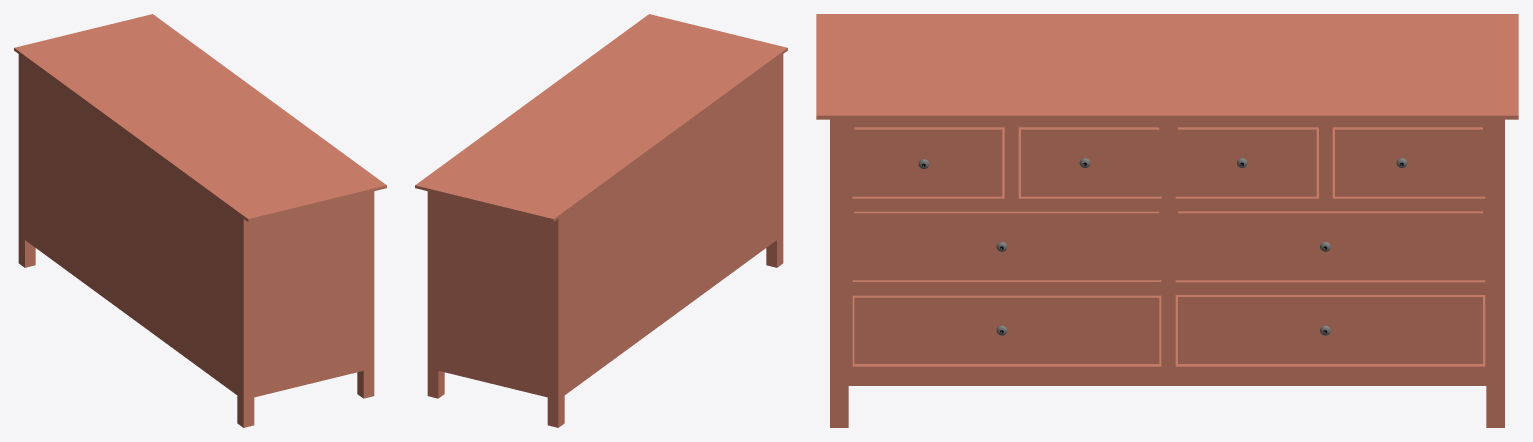
The picture shows the model from 3 angles, left to right: view 1: azimuth 30°, elevation 25°; view 2: azimuth 150°, elevation 25°; view 3: azimuth 270°, elevation 25°; orthographic projection. The views are drawn at different scales.
Visible parts, largest first — view 1: Group4, Componen01; view 2: Group4, Componen01, Group3; view 3: Group3, Group4, Componen01.
Boxes of the visible parts, box(x1,y1,x2,y2) form: Group4: box(14, 14, 386, 397); Componen01: box(18, 233, 374, 427); Group4: box(415, 14, 787, 397); Componen01: box(427, 233, 783, 427); Group3: box(427, 191, 430, 365); Group3: box(834, 119, 1504, 381); Group4: box(816, 14, 1518, 381); Componen01: box(830, 295, 1504, 427).
Bounding box in the file's own units: 26 × 38 × 76.
